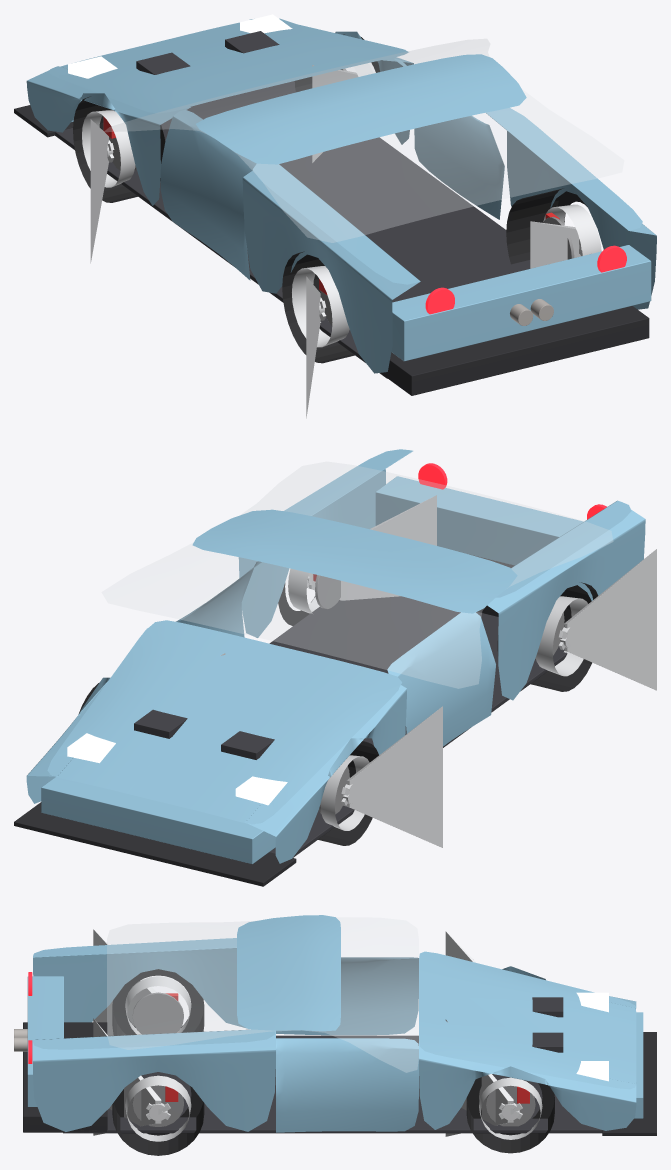
File: vehicle.glb
3 views of the same model, one above another, from view 1: azimuth 30°, elevation 25°; view 2: azimuth 150°, elevation 25°; view 3: azimuth 270°, elevation 25° (orthographic). The views are drawn at different scales.
Parts seen in each view (by area): view 1: GLASS_Canopy, BODY_Rear_Quarters, PLATFORM_Underbody, BODY_Roof_Panel, BODY_Doors, BODY_Hood, BODY_Rear_Fascia, AERO_Rear_Diffuser, BODY_Front_Fenders, WHEEL_RR_Rim, WHEEL_FR_Rim, WHEEL_RL_Rim (+8 smaller); view 2: GLASS_Canopy, BODY_Hood, BODY_Rear_Quarters, BODY_Roof_Panel, BODY_Doors, PLATFORM_Underbody, WHEEL_RR_Rim, WHEEL_FR_Rim, BODY_Front_Fascia, BODY_Rear_Fascia, BODY_Front_Fenders, AERO_Front_Splitter (+7 smaller); view 3: BODY_Rear_Quarters, GLASS_Canopy, BODY_Doors, BODY_Hood, BODY_Roof_Panel, BODY_Front_Fenders, PLATFORM_Underbody, BODY_Rear_Fascia, WHEEL_RL_Rim, WHEEL_FL_Tire, WHEEL_FL_Rim, WHEEL_RL_Tire (+11 smaller).
Part boxes in pixels (<box>): GLASS_Canopy: <box>104,39,623,242</box>; BODY_Rear_Quarters: <box>242,107,656,373</box>; PLATFORM_Underbody: <box>55,81,530,378</box>; BODY_Roof_Panel: <box>196,54,526,164</box>; BODY_Doors: <box>160,58,504,280</box>; BODY_Hood: <box>48,21,408,113</box>; BODY_Rear_Fascia: <box>391,245,651,361</box>; AERO_Rear_Diffuser: <box>360,306,649,395</box>; BODY_Front_Fenders: <box>26,18,413,205</box>; WHEEL_RR_Rim: <box>292,266,349,418</box>; WHEEL_FR_Rim: <box>82,110,135,263</box>; WHEEL_RL_Rim: <box>530,204,601,268</box>; GLASS_Canopy: <box>102,462,613,688</box>; BODY_Hood: <box>47,620,401,824</box>; BODY_Rear_Quarters: <box>238,449,645,700</box>; BODY_Roof_Panel: <box>192,509,517,613</box>; BODY_Doors: <box>176,561,495,746</box>; PLATFORM_Underbody: <box>269,596,567,857</box>; WHEEL_RR_Rim: <box>535,549,656,690</box>; WHEEL_FR_Rim: <box>320,706,442,847</box>; BODY_Front_Fascia: <box>41,777,275,864</box>; BODY_Rear_Fascia: <box>375,476,583,565</box>; BODY_Front_Fenders: <box>26,628,406,863</box>; AERO_Front_Splitter: <box>14,802,296,886</box>; BODY_Rear_Quarters: <box>33,938,275,1131</box>; GLASS_Canopy: <box>107,917,418,1072</box>; BODY_Doors: <box>276,957,418,1132</box>; BODY_Hood: <box>419,951,636,1089</box>; BODY_Roof_Panel: <box>237,915,340,1031</box>; BODY_Front_Fenders: <box>419,966,636,1130</box>; PLATFORM_Underbody: <box>63,1035,602,1133</box>; BODY_Rear_Fascia: <box>27,976,63,1106</box>; WHEEL_RL_Rim: <box>93,1018,191,1141</box>; WHEEL_FL_Tire: <box>466,1077,554,1153</box>; WHEEL_FL_Rim: <box>445,1019,542,1139</box>; WHEEL_RL_Tire: <box>112,1086,204,1155</box>.
Bounding box in the file's own units: 2.78 × 1.29 × 4.94.
